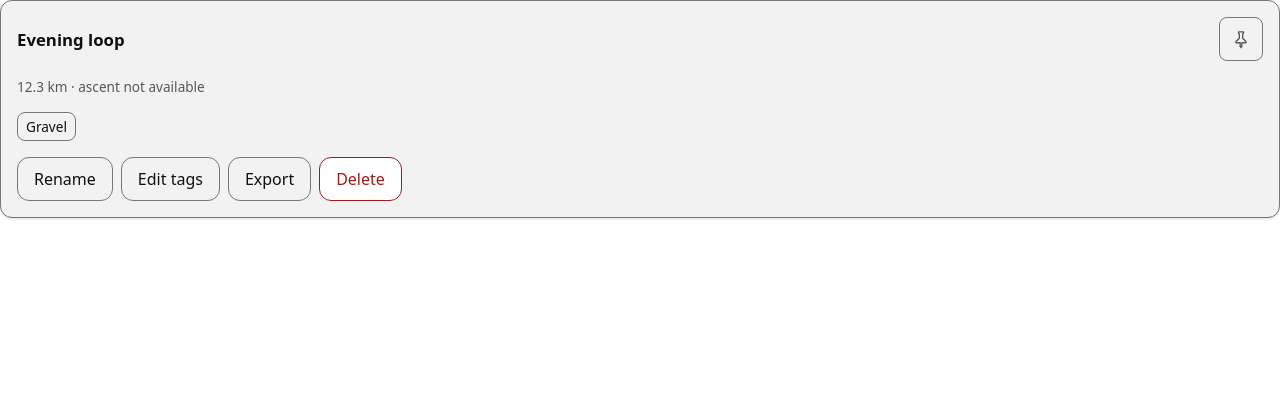
Scenario: RouteListItem › tag editor › gives suggestion buttons correct aria-pressed state and a decorative, aria-hidden check-mark when pressed
What coordinates should you click on to do the following:
click the button "Edit tags"
I would click on:
 (170, 179)
Its box is [121,157,220,201].
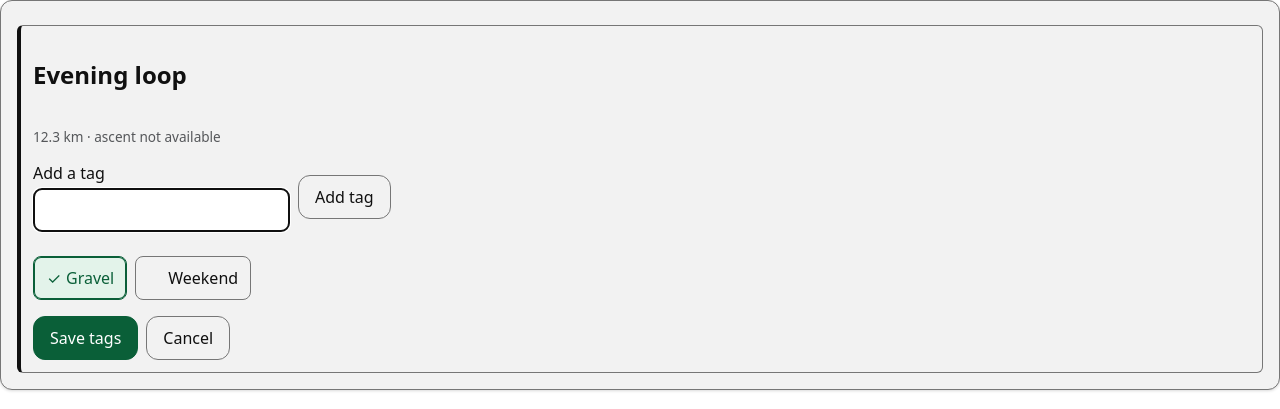
expect the text with class "tag-suggestion-check" reads "✓": met, box [47,267,61,289]
